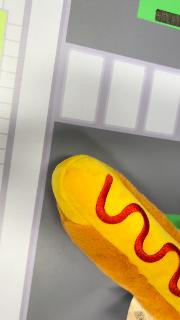hotdog: (51, 154, 179, 318)
